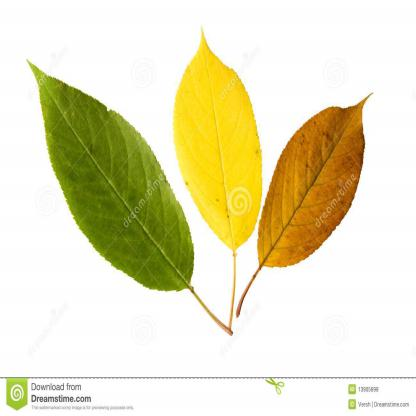Cherry leaf: (20, 54, 198, 305), (255, 58, 376, 314), (176, 27, 268, 259)
